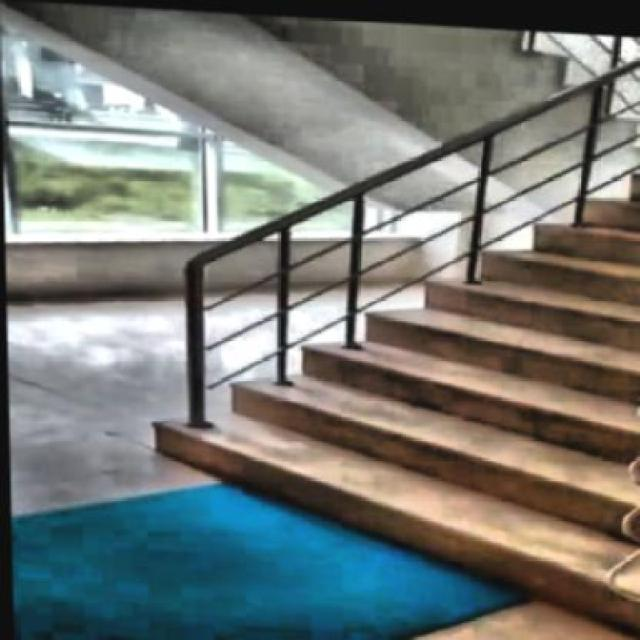stair: (131, 36, 638, 638)
